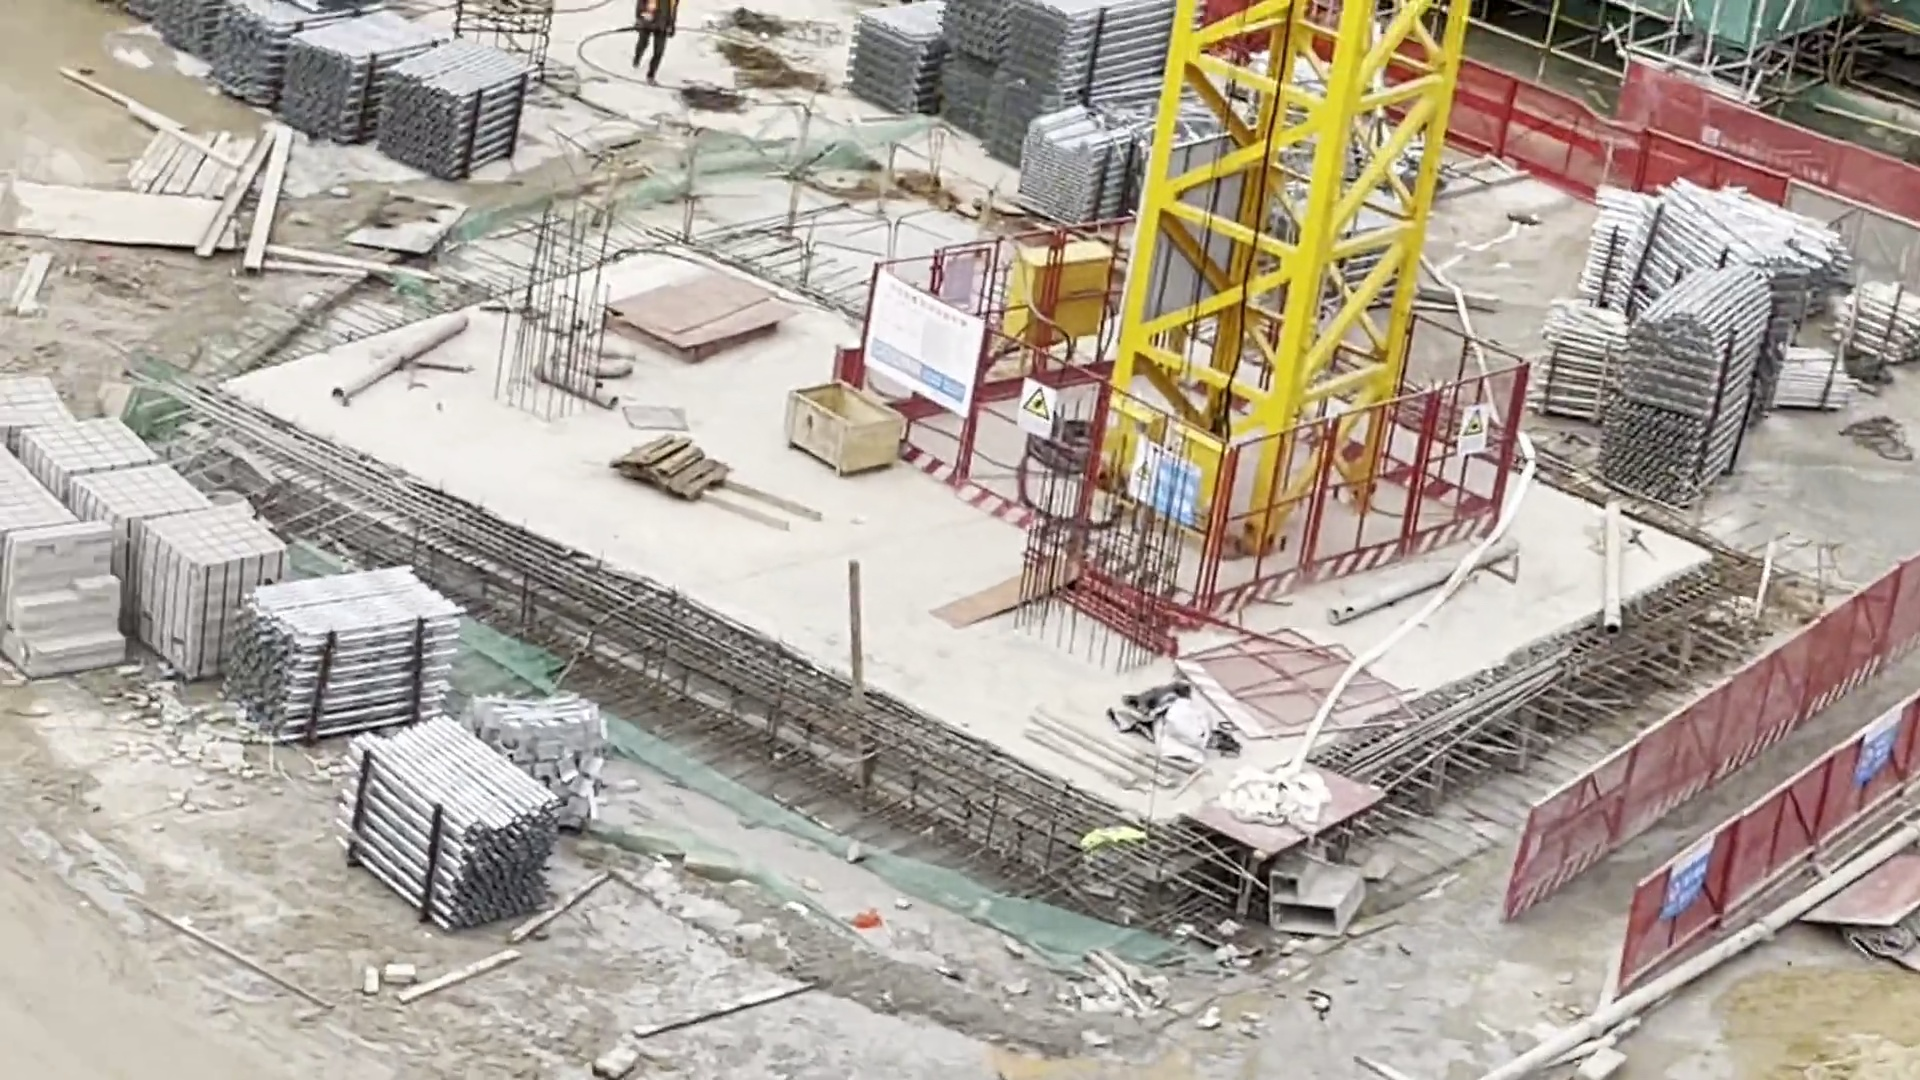brick: (2, 375, 284, 711)
ebox: (1011, 237, 1108, 348), (1083, 396, 1163, 487), (1169, 419, 1220, 518)
fence: (857, 224, 1537, 602), (1496, 558, 1920, 974), (1431, 64, 1920, 219)
hopper: (783, 379, 902, 476)
person: (623, 1, 677, 85)
scaffold: (1541, 181, 1915, 519), (235, 559, 562, 937), (841, 5, 1236, 209), (165, 1, 537, 175)
slogan: (857, 278, 991, 404), (1672, 835, 1717, 920), (1859, 708, 1900, 787), (1452, 401, 1492, 454)
